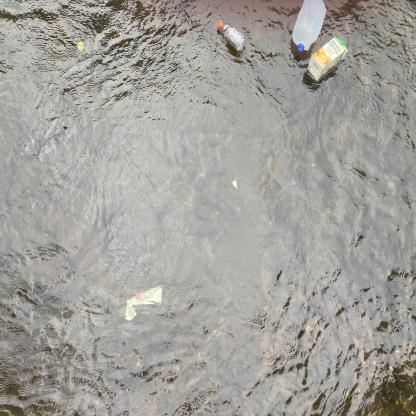trash: (303, 32, 350, 86), (288, 0, 330, 56), (119, 281, 166, 325), (212, 15, 247, 55)
